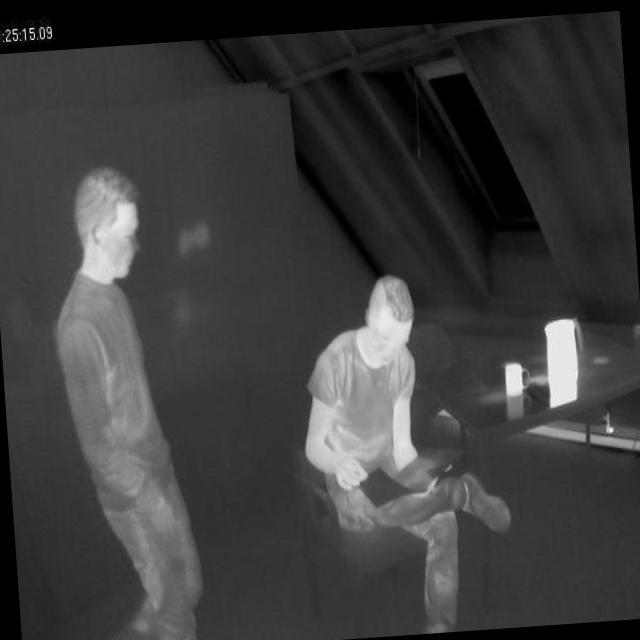person: (289, 263, 523, 640), (40, 150, 213, 640)
